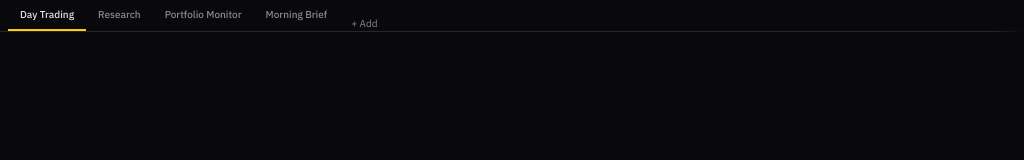
Test: WorkspaceTabs — rename › shows a rename input on double-click
Double-click the tab with aria-label "Workspace: Day Trading": (47, 16) [8,0,86,31]
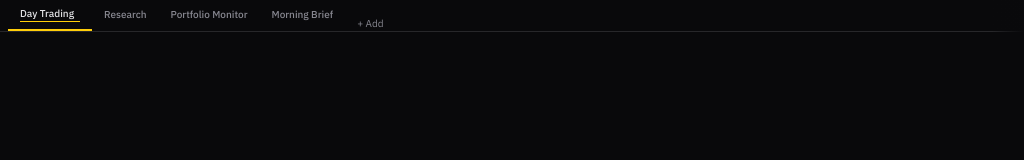
Check: the field named "Rename workspace" is shown, box [20,7,80,22]
